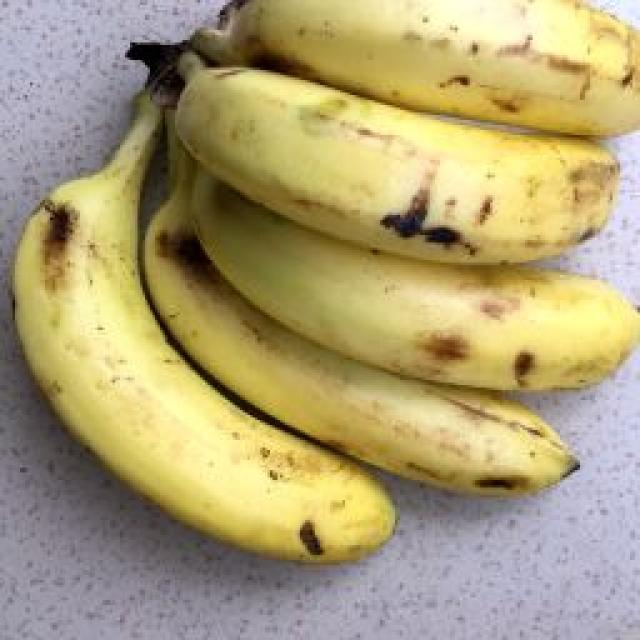banana: (120, 32, 517, 496)
